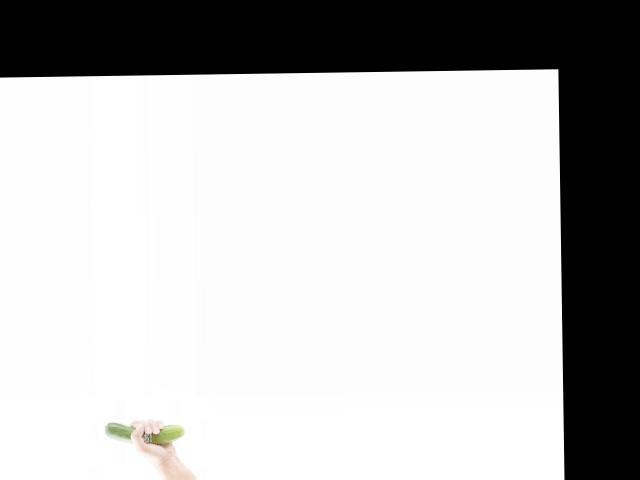cucumber: (104, 420, 184, 445)
